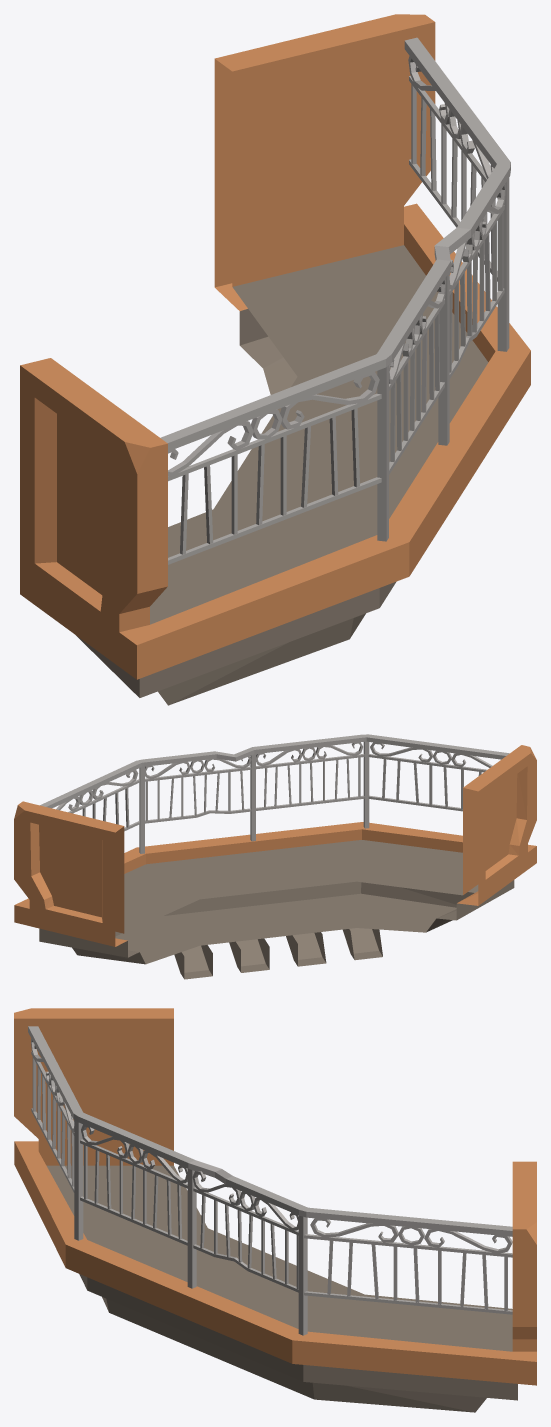
Rendered from SM_Bld_Cuba_Balcony_Corner_01.glb.
3 renders of one model, top to bottom at view 1: azimuth 30°, elevation 25°; view 2: azimuth 150°, elevation 25°; view 3: azimuth 270°, elevation 25°, orthographic. The views are drawn at different scales.
Visible parts, largest first — view 1: SM_Bld_Cuba_Balcony_Corner_01_part00; view 2: SM_Bld_Cuba_Balcony_Corner_01_part00; view 3: SM_Bld_Cuba_Balcony_Corner_01_part00.
Part boxes in pixels (x1,y1,x2,y2): SM_Bld_Cuba_Balcony_Corner_01_part00: (20,14,530,705); SM_Bld_Cuba_Balcony_Corner_01_part00: (14,734,536,979); SM_Bld_Cuba_Balcony_Corner_01_part00: (14,1008,536,1412).
Bounding box in the file's own units: 2.79 × 1.42 × 2.79.
Materials: 1 (1 with a texture image).
